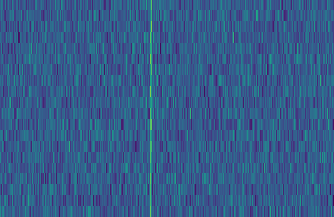signal: (145, 0, 154, 217)
